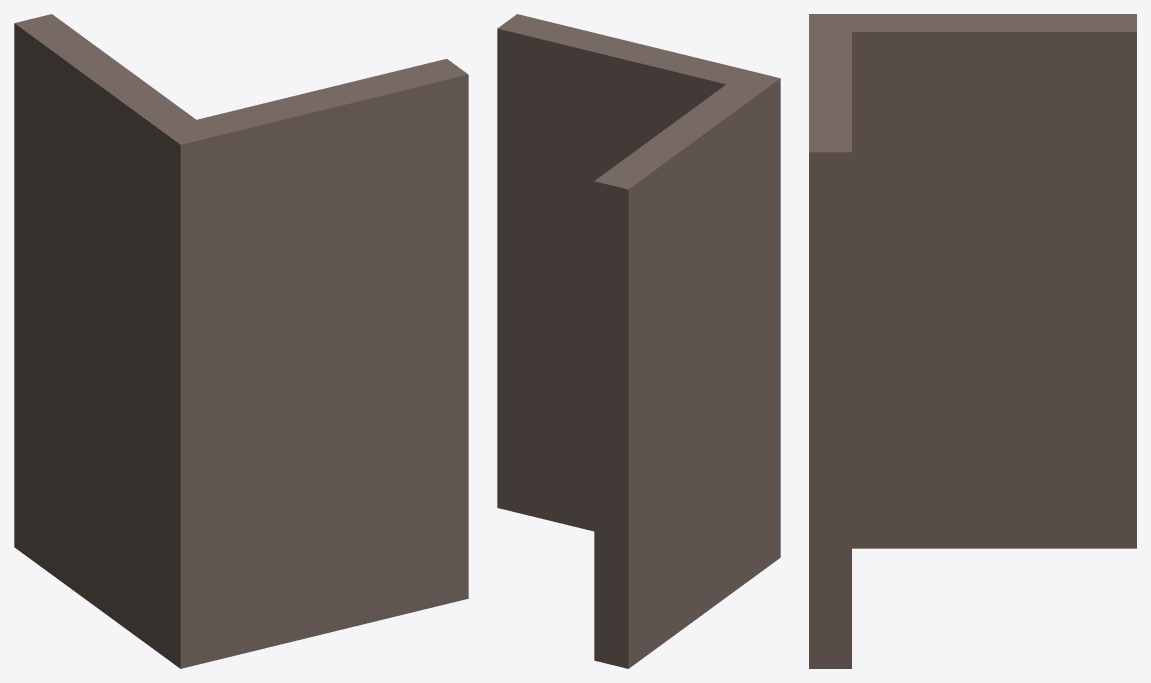
Rendered from Village_Wall_1m_Stone_Corner.fbx.
The picture shows the model from 3 angles, left to right: view 1: azimuth 30°, elevation 25°; view 2: azimuth 150°, elevation 25°; view 3: azimuth 270°, elevation 25°; orthographic projection. The views are drawn at different scales.
Parts seen in each view (by area): view 1: Village_Wall_2m_Corner_A.044; view 2: Village_Wall_2m_Corner_A.044; view 3: Village_Wall_2m_Corner_A.044.
Boxes of the visible parts, x1,y1,x2,y2 form: Village_Wall_2m_Corner_A.044: (14, 14, 468, 668); Village_Wall_2m_Corner_A.044: (497, 14, 780, 668); Village_Wall_2m_Corner_A.044: (809, 14, 1136, 668).
Bounding box in the file's own units: 115 × 200 × 115.
